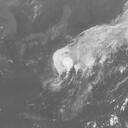cyclone: (52, 43, 95, 78)
